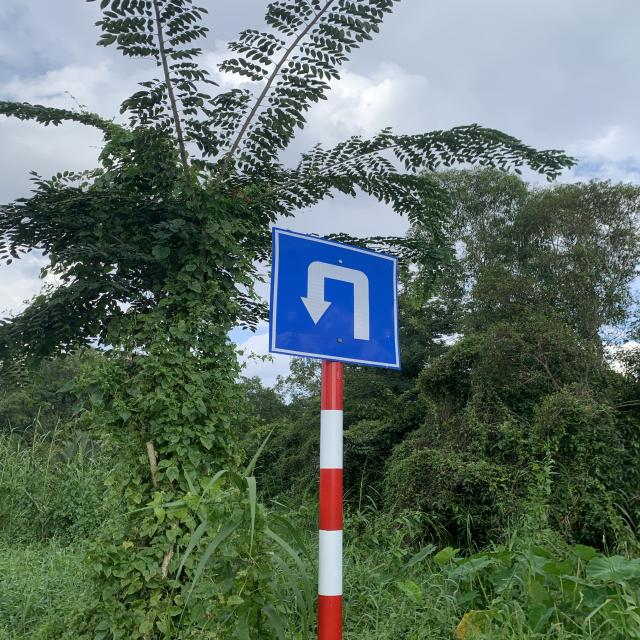Den_Giao_Thong: (272, 227, 402, 370)
